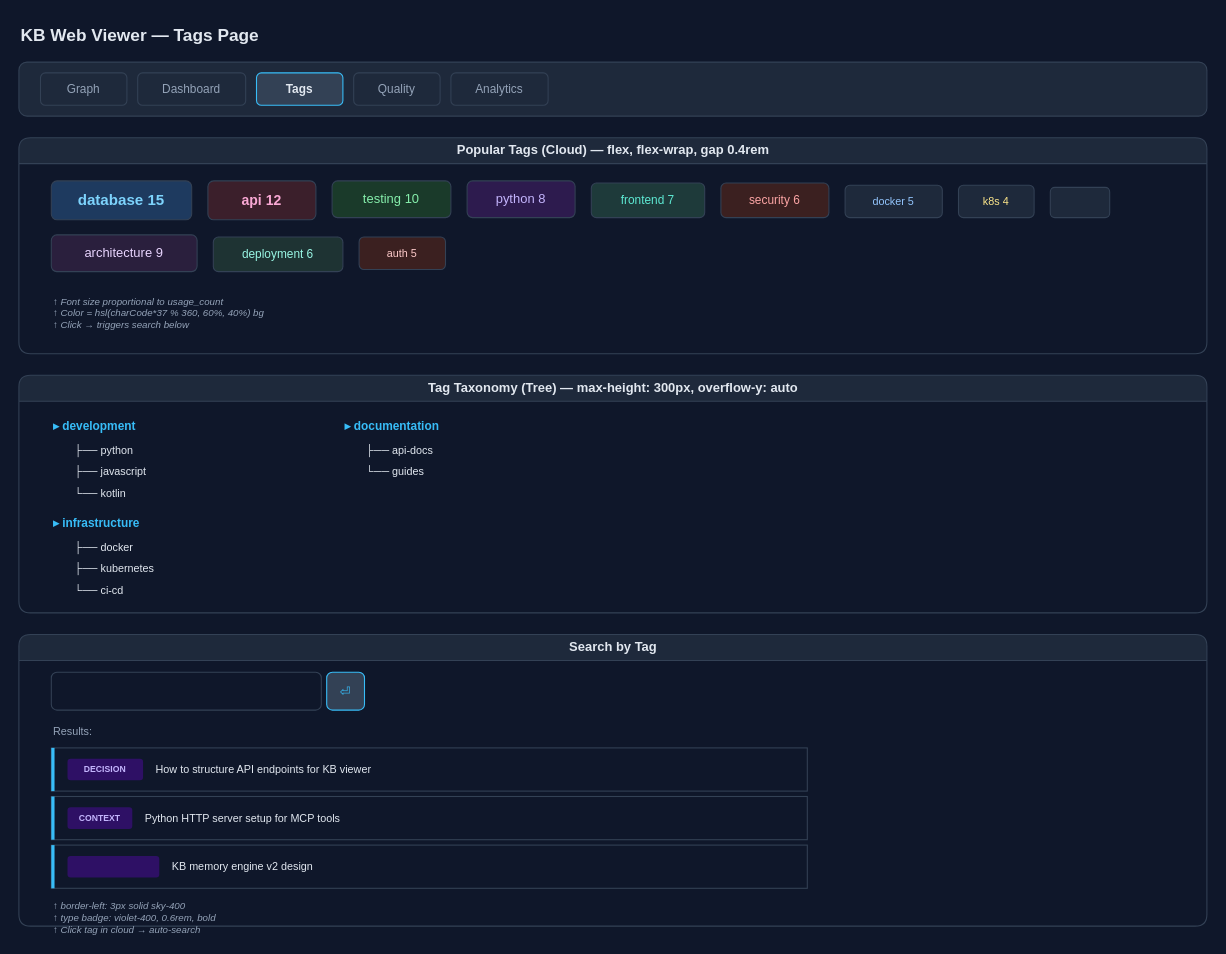
This 1226x954 diagram has some shape labels left out. Each missing label, with the centre of its shape:
ARCHITECTURE: [113,866]
ci 3: [1079,202]
Enter tag name...: [185,690]
